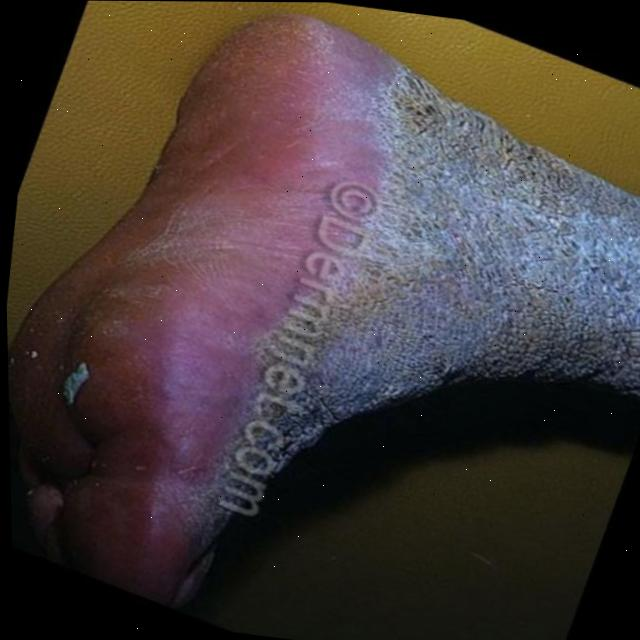Eczema: (317, 96, 640, 393), (53, 353, 109, 416)
